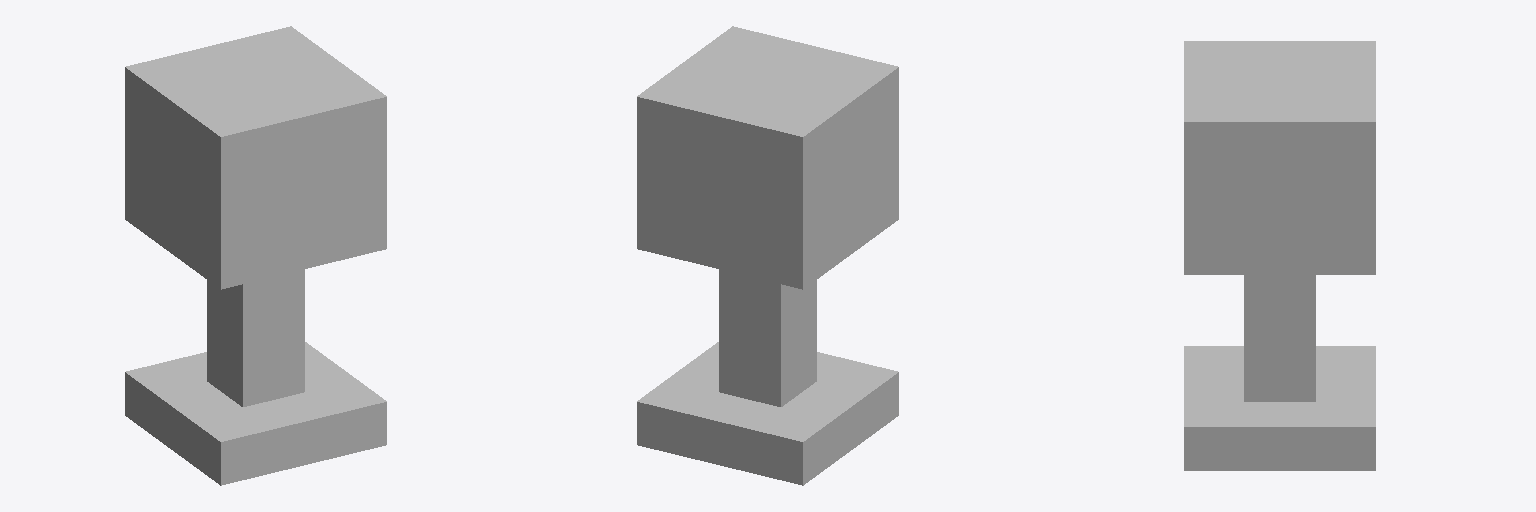
The model's file is tree3.obj.
3 renders of one model, left to right at view 1: azimuth 30°, elevation 25°; view 2: azimuth 150°, elevation 25°; view 3: azimuth 270°, elevation 25°, orthographic.
Visible parts, largest first — view 1: object 1; view 2: object 1; view 3: object 1.
Part boxes in pixels (x1,y1,x2,y2): object 1: (125,26,386,485); object 1: (637,26,898,485); object 1: (1184,41,1375,470).
Bounding box in the file's own units: 1.6 × 3.2 × 1.6.